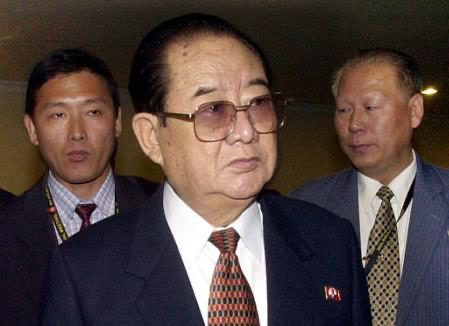Face: (162, 69, 284, 209), (32, 89, 117, 187), (330, 82, 413, 170)
